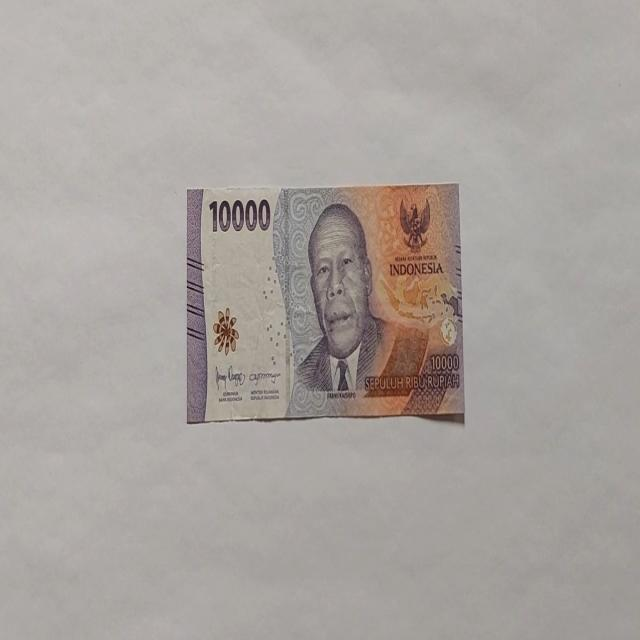sepuluh ribu rupiah: (186, 181, 464, 424)
